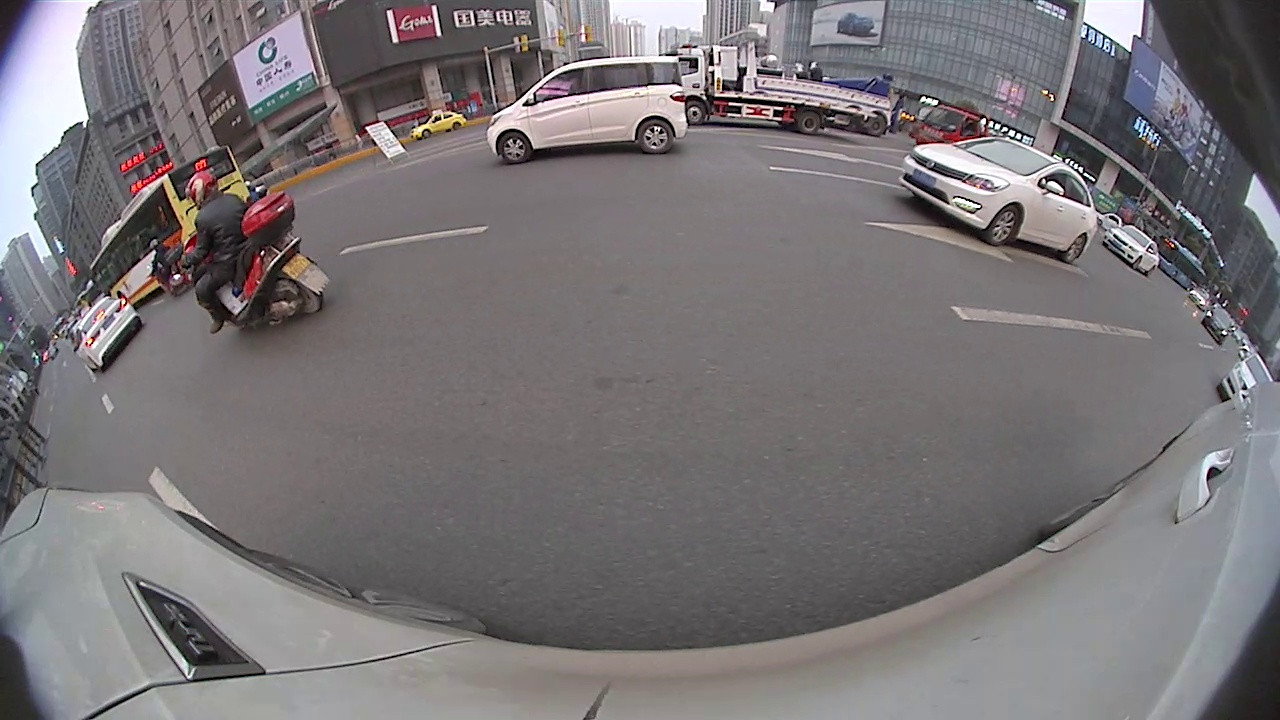bus: (92, 143, 261, 316)
car: (892, 141, 1100, 263), (488, 51, 693, 168), (71, 290, 144, 376), (1219, 353, 1274, 413), (1103, 227, 1168, 277), (1199, 304, 1238, 347), (412, 111, 466, 138)
front: (985, 202, 1021, 248), (495, 132, 533, 168), (684, 99, 706, 127)
rear: (277, 268, 326, 316), (637, 118, 675, 157), (1061, 235, 1086, 265), (797, 110, 822, 137), (864, 113, 888, 138)
rider: (187, 172, 324, 334), (148, 238, 192, 300)
truck: (673, 48, 901, 142)
